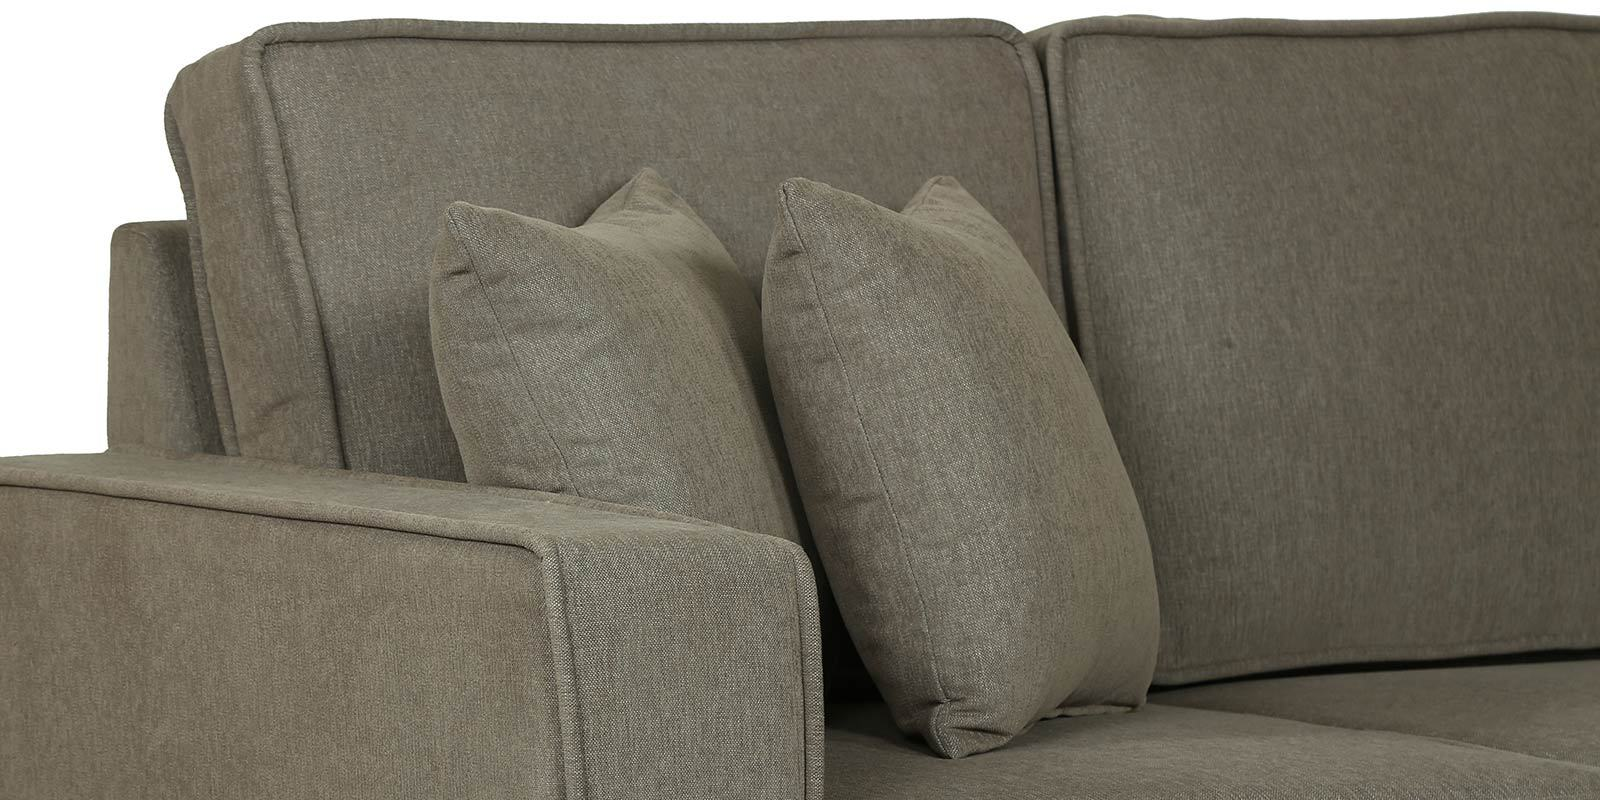Hugo Three Seater Sofa in Sandy Brown Colour by CasaCraft: (3, 5, 1600, 800)
